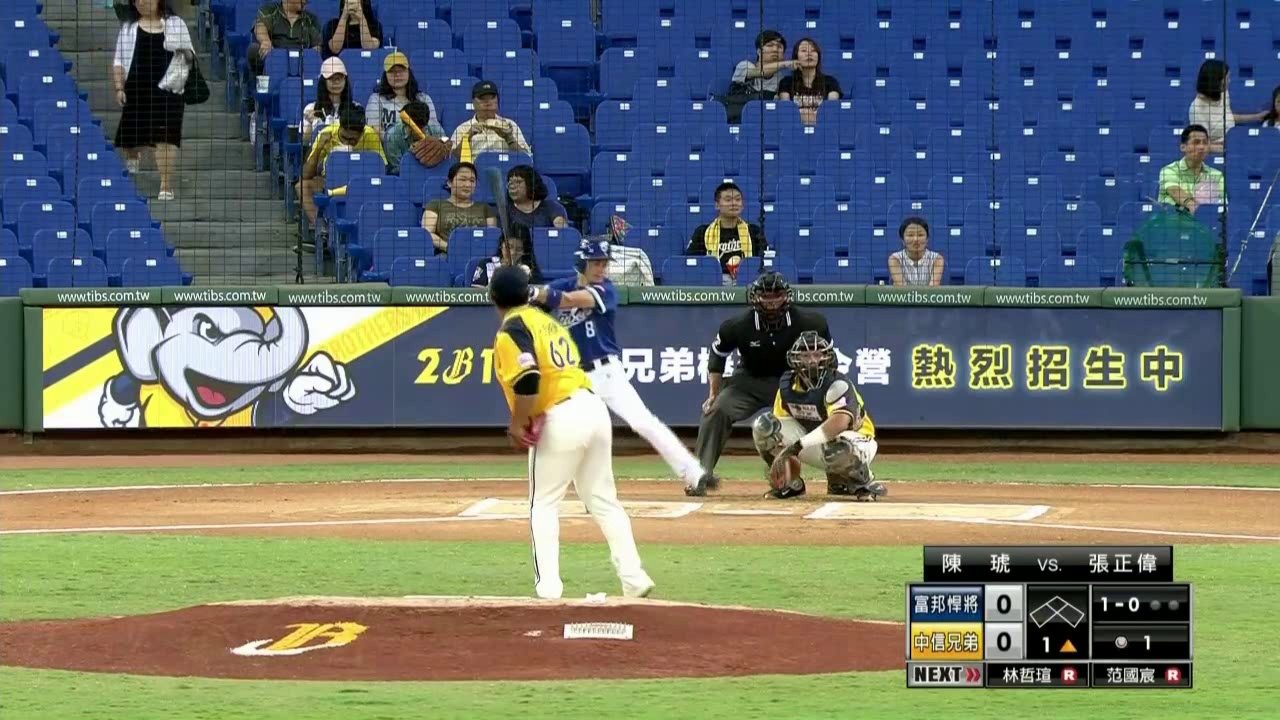base: (1028, 592, 1088, 632)
bat: (489, 166, 520, 263)
out: (1144, 595, 1188, 615)
score1: (989, 587, 1020, 623)
score2: (990, 627, 1021, 659)
session: (1030, 632, 1080, 660)
strikeball: (1098, 594, 1144, 615)
total: (1110, 625, 1157, 656)
